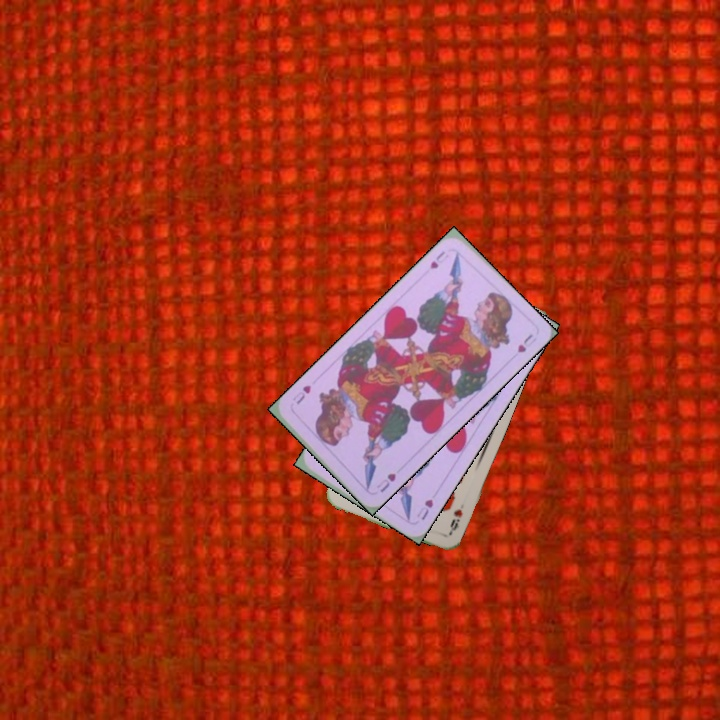H9: (445, 505, 465, 536)
HU: (372, 469, 399, 495), (412, 495, 436, 523), (426, 247, 451, 272)
